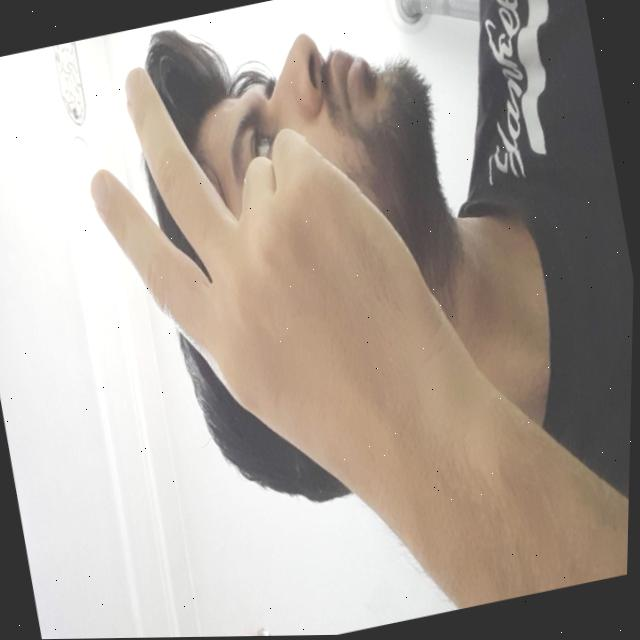Head: (110, 0, 505, 532)
Two: (63, 10, 525, 605)
